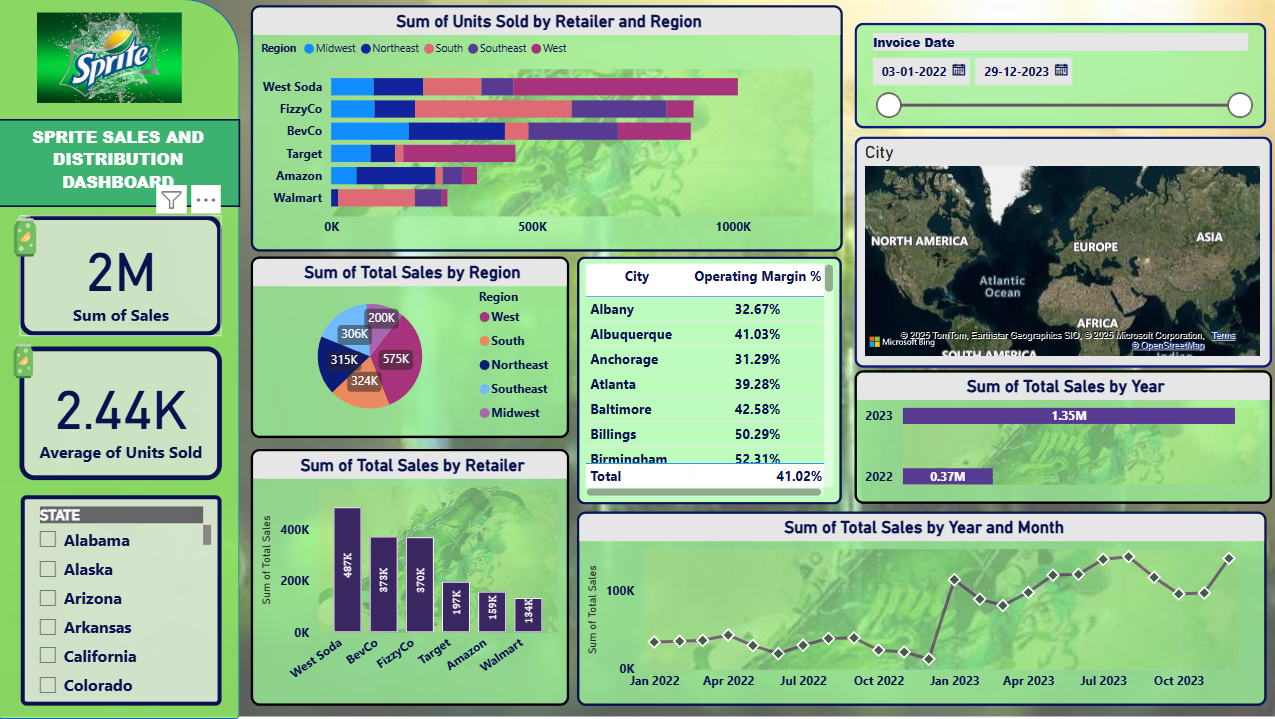

The page's visual inventory and layout, read from the dashboard file:
{"tool":"powerbi","page":{"name":"Page 1","canvas":[1280,720],"ordinal":0},"visuals":[{"type":"shape","box":[0,0,242.5,720],"z":0},{"type":"image","box":[0,8.8,225,100],"z":1000},{"type":"textbox","box":[0,119.8,243,88.4],"z":2000},{"type":"card","fields":{"Values":["Data.SUM OF SALES"]},"box":[22.1,216.3,202.3,120.9],"z":3000},{"type":"columnChart","fields":{"Y":["Sum(Data.Total Sales)"],"Category":["Data.Retailer"]},"box":[253.5,450,318.6,257],"z":4000},{"type":"filledMap","fields":{"Category":["Data.City"]},"box":[857,137.2,417.4,231.4],"z":5000},{"type":"lineChart","fields":{"Y":["Sum(Data.Total Sales)"],"Category":["Data.Invoice Date.Variation.Date Hierarchy.Year","Data.Invoice Date.Variation.Date Hierarchy.Month","Data.Invoice Date.Variation.Date Hierarchy.Day"]},"box":[580.2,512.8,689.5,194.2],"z":6000},{"type":"slicer","fields":{"Values":["Data.State"]},"box":[23.3,496.5,201.2,210.5],"z":7000},{"type":"barChart","fields":{"Category":["Data.Retailer"],"Y":["Sum(Data.Units Sold)"],"Series":["Data.Region"]},"box":[253.5,5.8,591.9,246.5],"z":8000},{"type":"card","fields":{"Values":["Avg(Data.Units Sold)"]},"box":[22.1,347.7,202.3,133.7],"z":9000},{"type":"pieChart","fields":{"Category":["Data.Region"],"Y":["Sum(Data.Total Sales)"]},"box":[253.5,257,318.6,181.4],"z":10000},{"type":"slicer","fields":{"Values":["Data.Invoice Date"]},"box":[857,23.3,411.6,105.8],"z":11000},{"type":"barChart","fields":{"Y":["Sum(Data.Total Sales)"],"Category":["Data.Invoice Date.Variation.Date Hierarchy.Year"]},"box":[857,370.9,417.4,133.7],"z":12000},{"type":"image","box":[2.3,208.1,51.2,55.8],"z":13000},{"type":"image","box":[0,337.2,53.5,46.5],"z":14000},{"type":"tableEx","fields":{"Values":["Data.City","Avg(Data.Operating Margin)"]},"box":[580.2,257,265.1,247.7],"z":14001}]}

Visuals, with their boxes in screenshot pixels (x1, y1, x2, y2), scaled from the page's 1280x720 canvas onto the 1275x719 screenshot:
shape: locate(0, 0, 242, 718)
image: locate(0, 9, 224, 109)
textbox: locate(0, 120, 242, 208)
card - Data.SUM OF SALES: locate(22, 216, 224, 337)
columnChart - Sum(Data.Total Sales) x Data.Retailer: locate(253, 449, 570, 706)
filledMap - Data.City: locate(854, 137, 1269, 368)
lineChart - Sum(Data.Total Sales) x Data.Invoice Date.Variation.Date Hierarchy.Year: locate(578, 512, 1265, 706)
slicer - Data.State: locate(23, 496, 224, 706)
barChart - Data.Retailer x Sum(Data.Units Sold): locate(253, 6, 842, 252)
card - Avg(Data.Units Sold): locate(22, 347, 224, 481)
pieChart - Data.Region x Sum(Data.Total Sales): locate(253, 257, 570, 438)
slicer - Data.Invoice Date: locate(854, 23, 1264, 129)
barChart - Sum(Data.Total Sales) x Data.Invoice Date.Variation.Date Hierarchy.Year: locate(854, 370, 1269, 504)
image: locate(2, 208, 53, 264)
image: locate(0, 337, 53, 383)
tableEx - Data.City x Avg(Data.Operating Margin): locate(578, 257, 842, 504)
